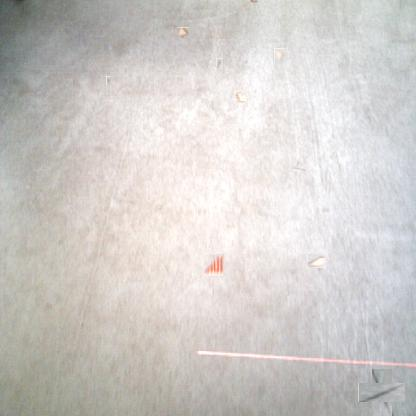dirty: (204, 253, 224, 276), (309, 253, 325, 270), (235, 90, 247, 103), (274, 49, 286, 60), (178, 27, 189, 37), (251, 0, 256, 4)
mark: (365, 376, 399, 409), (291, 164, 303, 176), (320, 204, 331, 214), (216, 58, 223, 69), (106, 76, 111, 85)
